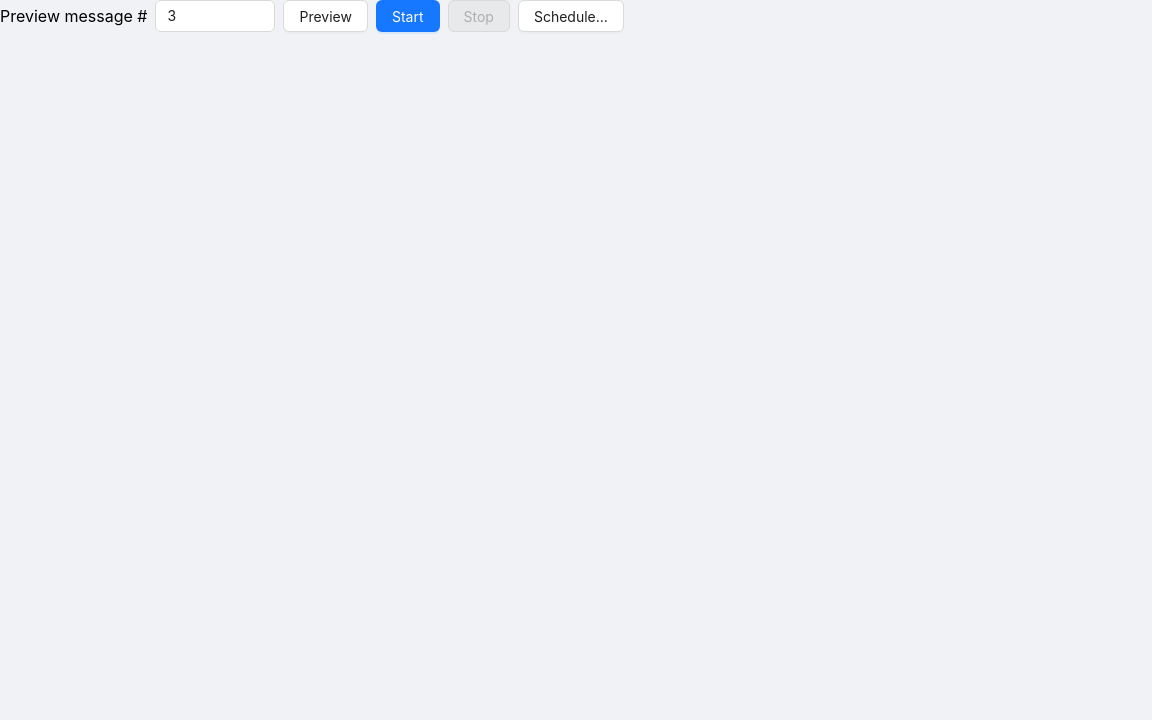
Scenario: GeneratorActions › opens a modal with the message resolved at the preview index
Click the button "Preview" at (326, 16), box [284,0,368,32]
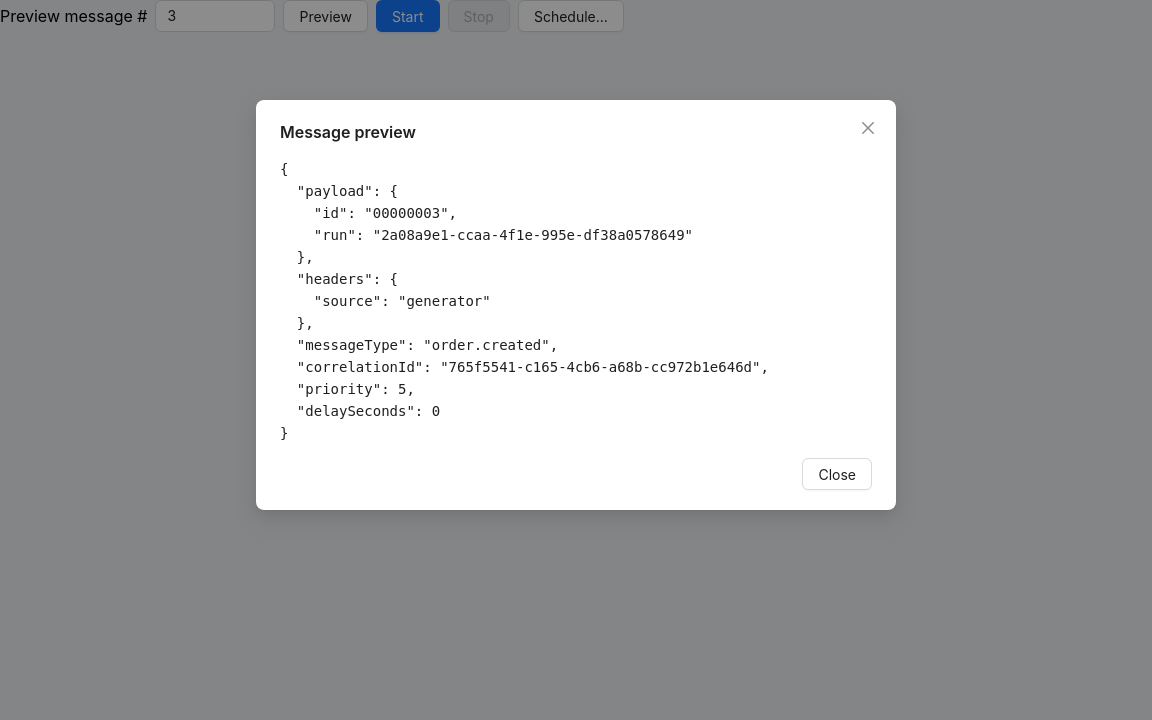
Check: the element with test id "preview-modal" shows "00000003", box [280,161,769,441]
Check: the element with test id "preview-modal" shows "order.created", box [280,161,769,441]
